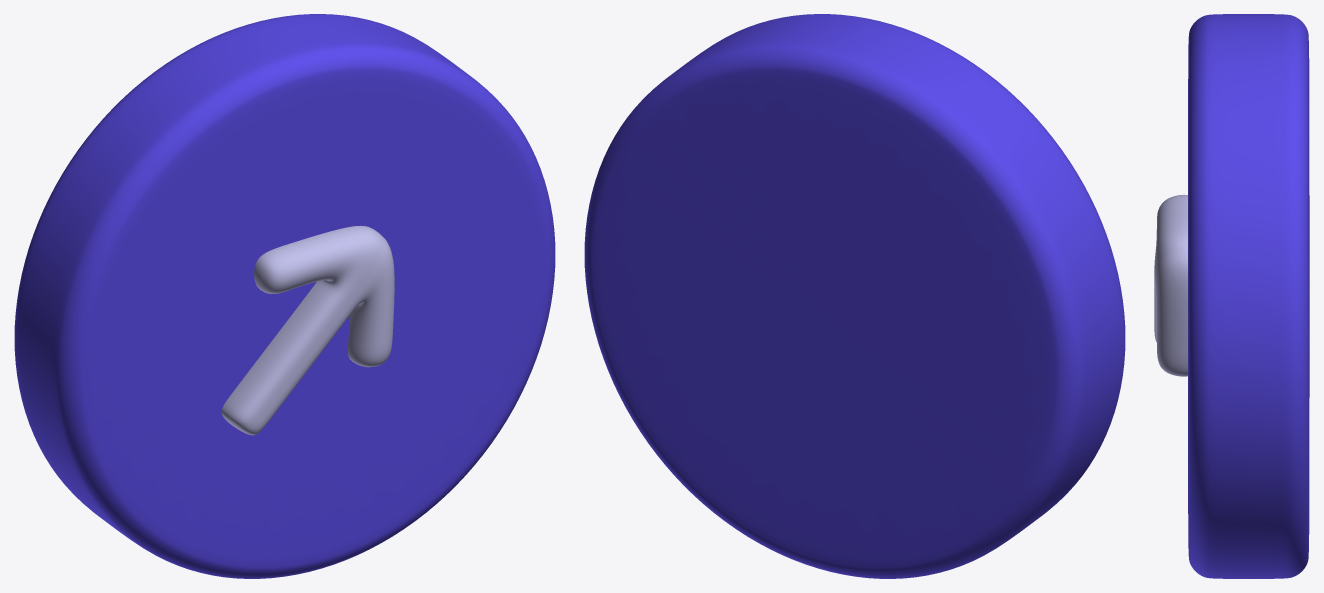
The model's file is go-next-animated-3d-icon-1318968391262.glb.
The picture shows the model from 3 angles, left to right: view 1: azimuth 30°, elevation 25°; view 2: azimuth 150°, elevation 25°; view 3: azimuth 270°, elevation 25°; orthographic projection.
Parts seen in each view (by area): view 1: Base.013, Arrow Base.011; view 2: Base.013; view 3: Base.013, Arrow Base.011.
Boxes of the visible parts, box(x1,y1,x2,y2) form: Base.013: box(14, 14, 555, 578); Arrow Base.011: box(221, 225, 394, 435); Base.013: box(584, 14, 1125, 578); Base.013: box(1188, 14, 1309, 578); Arrow Base.011: box(1154, 194, 1187, 376).
Size of the model in its own units: 1.99 by 1.99 by 0.5457.
